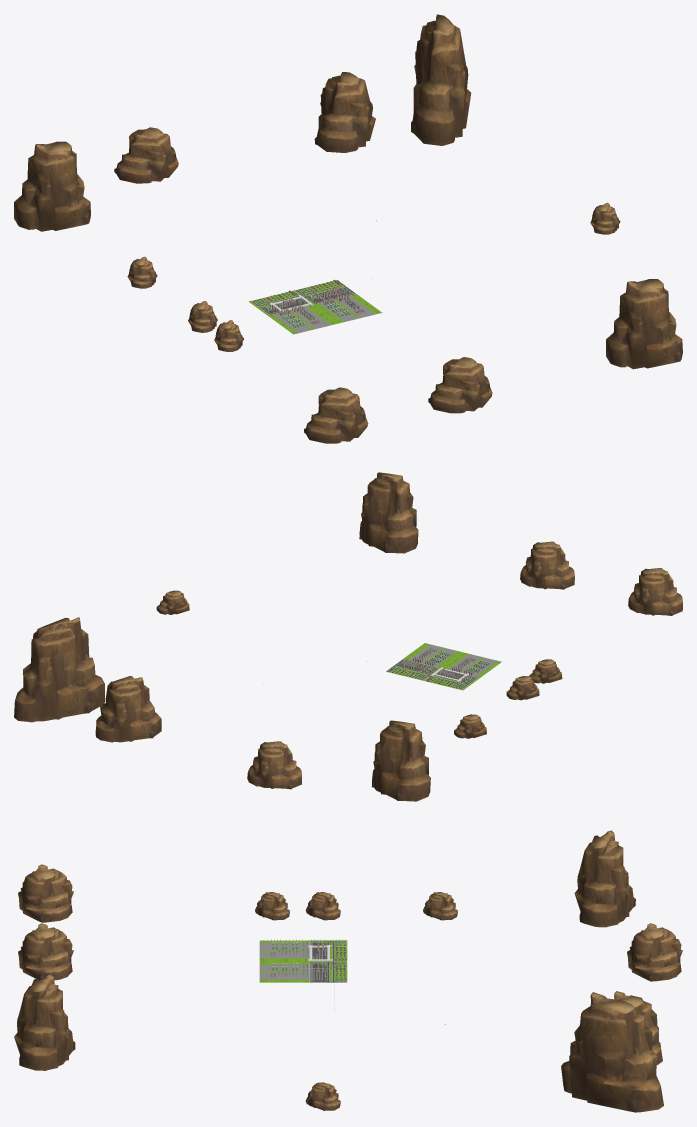
The model's file is scene_biwu.glb.
3 views of the same model, one above another, from view 1: azimuth 30°, elevation 25°; view 2: azimuth 150°, elevation 25°; view 3: azimuth 270°, elevation 25° (orthographic). The views are drawn at different scales.
Parts seen in each view (by area): view 1: Natures_Mountain_RR-StoneA_01_01.006, Natures_Mountain_RR-StoneA_01_01, Natures_Mountain_RR-StoneA_01_01.003, Natures_Mountain_RR-StoneA_01_01.002, Natures_Mountain_RR-StoneA_01_01.005, Natures_Mountain_RR-StoneA_01_01.004, Natures_Mountain_RR-StoneA_01_01.001, Natures_Mountain_RR-StoneA_01_02, Natures_Mountain_RR-StoneA_01_02.004, Natures_Mountain_RR-StoneA_01_02.002, Natures_Mountain_RR-StoneA_01_02.003; view 2: Natures_Mountain_RR-StoneA_01_01.006, Natures_Mountain_RR-StoneA_01_01, Natures_Mountain_RR-StoneA_01_01.003, Natures_Mountain_RR-StoneA_01_01.002, Natures_Mountain_RR-StoneA_01_01.004, Natures_Mountain_RR-StoneA_01_01.001, Natures_Mountain_RR-StoneA_01_01.005, Natures_Mountain_RR-StoneA_01_02, Natures_Mountain_RR-StoneA_01_02.004, Natures_Mountain_RR-StoneA_01_02.003, Natures_Mountain_RR-StoneA_01_02.002; view 3: Natures_Mountain_RR-StoneA_01_01.006, Natures_Mountain_RR-StoneA_01_01.003, Natures_Mountain_RR-StoneA_01_01, Natures_Mountain_RR-StoneA_01_01.005, Natures_Mountain_RR-StoneA_01_01.004, Natures_Mountain_RR-StoneA_01_01.001, Natures_Mountain_RR-StoneA_01_01.002, Natures_Mountain_RR-StoneA_01_02, Natures_Mountain_RR-StoneA_01_02.004, Natures_Mountain_RR-StoneA_01_02.002, Natures_Mountain_RR-StoneA_01_02.003.
Boxes of the visible parts, x1,y1,x2,y2 form: Natures_Mountain_RR-StoneA_01_01.006: [411, 14, 471, 145]; Natures_Mountain_RR-StoneA_01_01: [606, 279, 682, 369]; Natures_Mountain_RR-StoneA_01_01.003: [14, 141, 90, 231]; Natures_Mountain_RR-StoneA_01_01.002: [314, 72, 375, 152]; Natures_Mountain_RR-StoneA_01_01.005: [304, 387, 368, 443]; Natures_Mountain_RR-StoneA_01_01.004: [114, 127, 178, 183]; Natures_Mountain_RR-StoneA_01_01.001: [428, 357, 492, 413]; Natures_Mountain_RR-StoneA_01_02: [188, 301, 217, 332]; Natures_Mountain_RR-StoneA_01_02.004: [590, 202, 620, 234]; Natures_Mountain_RR-StoneA_01_02.002: [214, 320, 243, 351]; Natures_Mountain_RR-StoneA_01_02.003: [127, 256, 157, 288]; Natures_Mountain_RR-StoneA_01_01.006: [14, 617, 104, 722]; Natures_Mountain_RR-StoneA_01_01: [359, 472, 418, 553]; Natures_Mountain_RR-StoneA_01_01.003: [371, 720, 430, 801]; Natures_Mountain_RR-StoneA_01_01.002: [95, 676, 161, 742]; Natures_Mountain_RR-StoneA_01_01.004: [247, 741, 301, 789]; Natures_Mountain_RR-StoneA_01_01.001: [520, 541, 574, 589]; Natures_Mountain_RR-StoneA_01_01.005: [628, 568, 682, 615]; Natures_Mountain_RR-StoneA_01_02: [506, 676, 539, 700]; Natures_Mountain_RR-StoneA_01_02.004: [156, 590, 189, 614]; Natures_Mountain_RR-StoneA_01_02.003: [454, 714, 486, 738]; Natures_Mountain_RR-StoneA_01_02.002: [529, 659, 562, 683]; Natures_Mountain_RR-StoneA_01_01.006: [561, 992, 663, 1112]; Natures_Mountain_RR-StoneA_01_01.003: [574, 830, 635, 927]; Natures_Mountain_RR-StoneA_01_01: [14, 974, 75, 1070]; Natures_Mountain_RR-StoneA_01_01.005: [18, 864, 73, 922]; Natures_Mountain_RR-StoneA_01_01.004: [627, 923, 682, 981]; Natures_Mountain_RR-StoneA_01_01.001: [18, 923, 73, 980]; Natures_Mountain_RR-StoneA_01_01.002: [614, 991, 662, 1064]; Natures_Mountain_RR-StoneA_01_02: [305, 892, 340, 920]; Natures_Mountain_RR-StoneA_01_02.004: [305, 1082, 340, 1110]; Natures_Mountain_RR-StoneA_01_02.002: [255, 892, 289, 920]; Natures_Mountain_RR-StoneA_01_02.003: [423, 892, 457, 920].
Bounding box in the file's own units: 4113 × 870 × 5360.
Materials: 30 (30 with a texture image).
